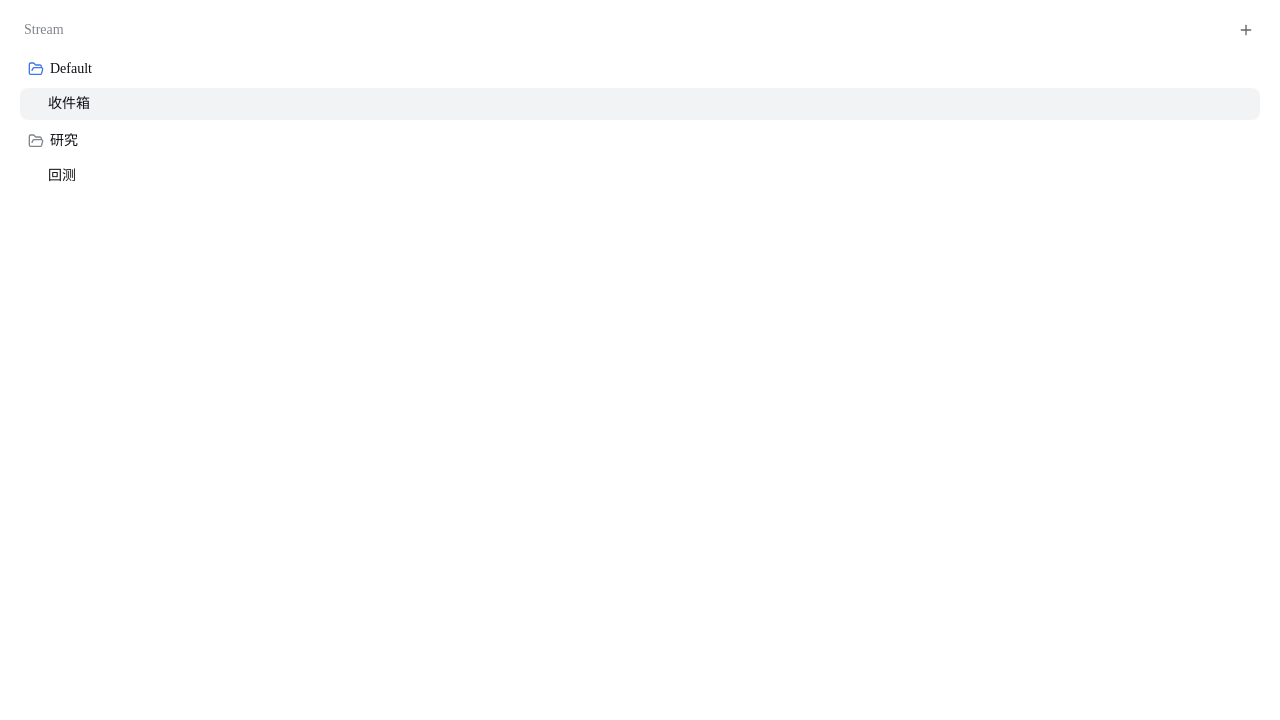
Test: 导航的写动作 › 写失败说出人话，不静默——"点了没反应"和坏了长得一模一样
Click the button named "新建": (1246, 30) [1232,16,1260,44]
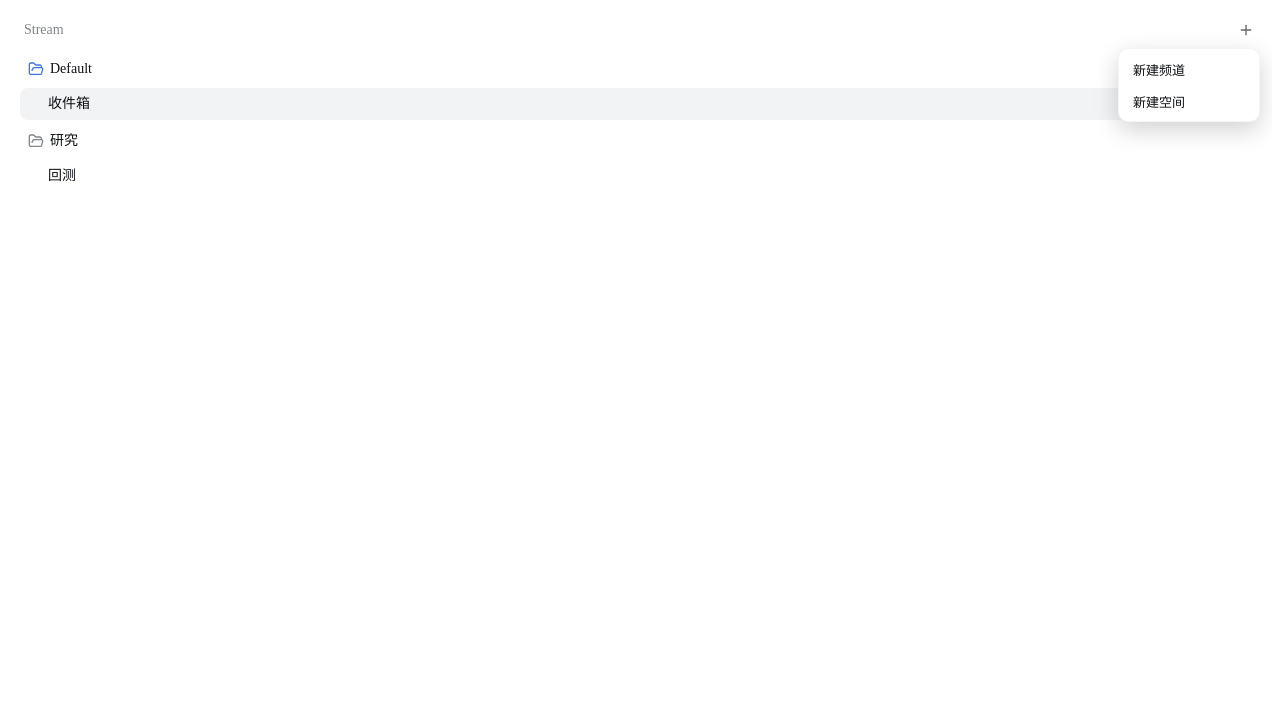
Click the menu item "新建空间": (1189, 101) [1123,85,1255,117]
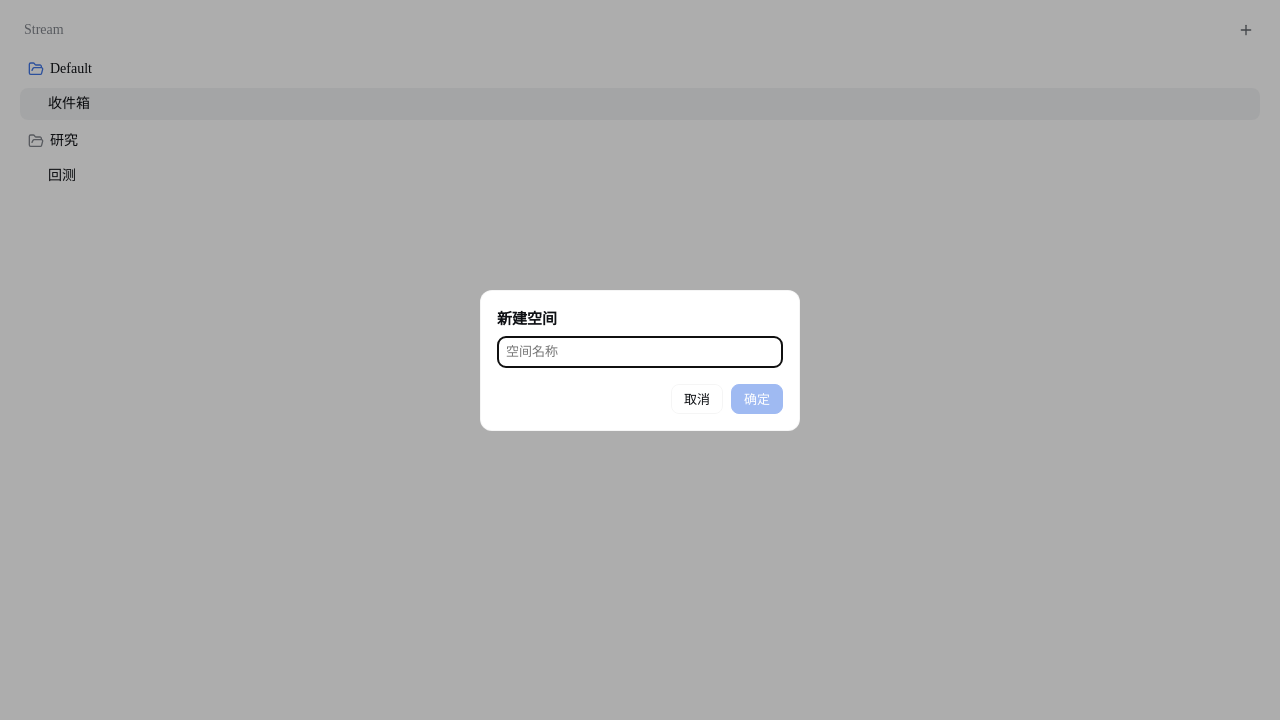
In the field labelled "名称": (640, 352) [497,336,783,368], type "研究"
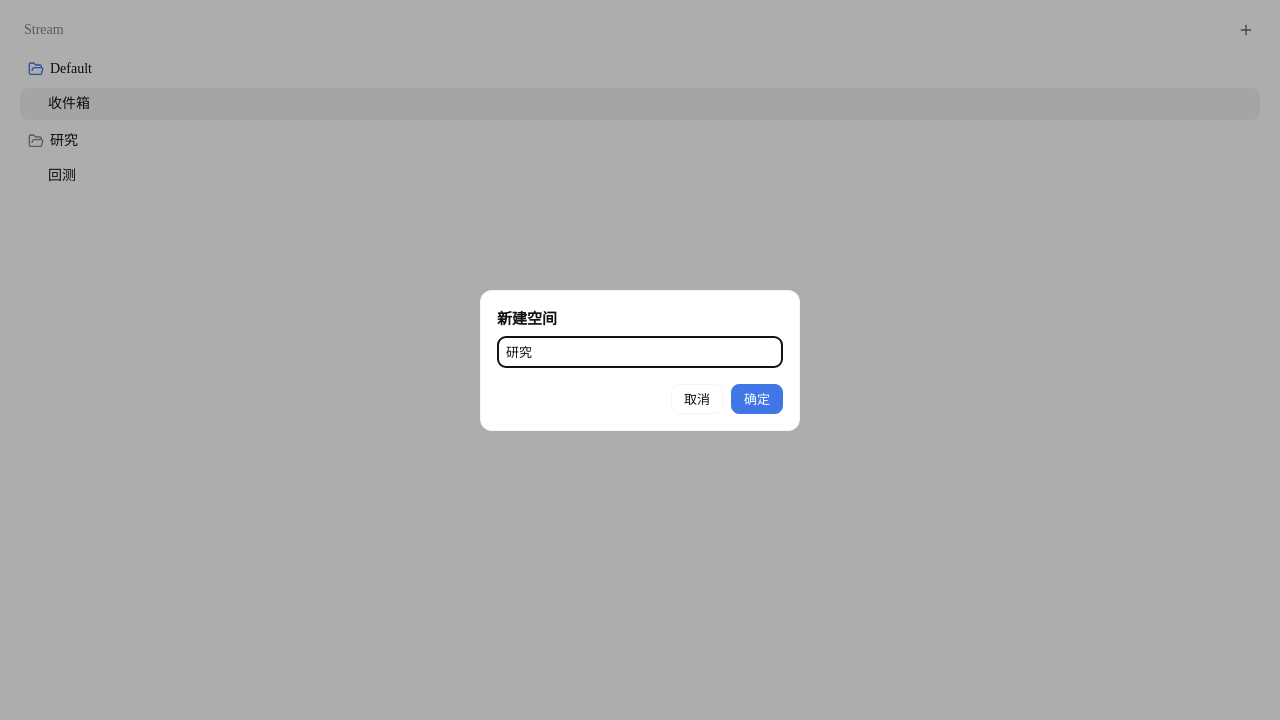
Click the button "确定": (757, 398) [731,384,783,414]
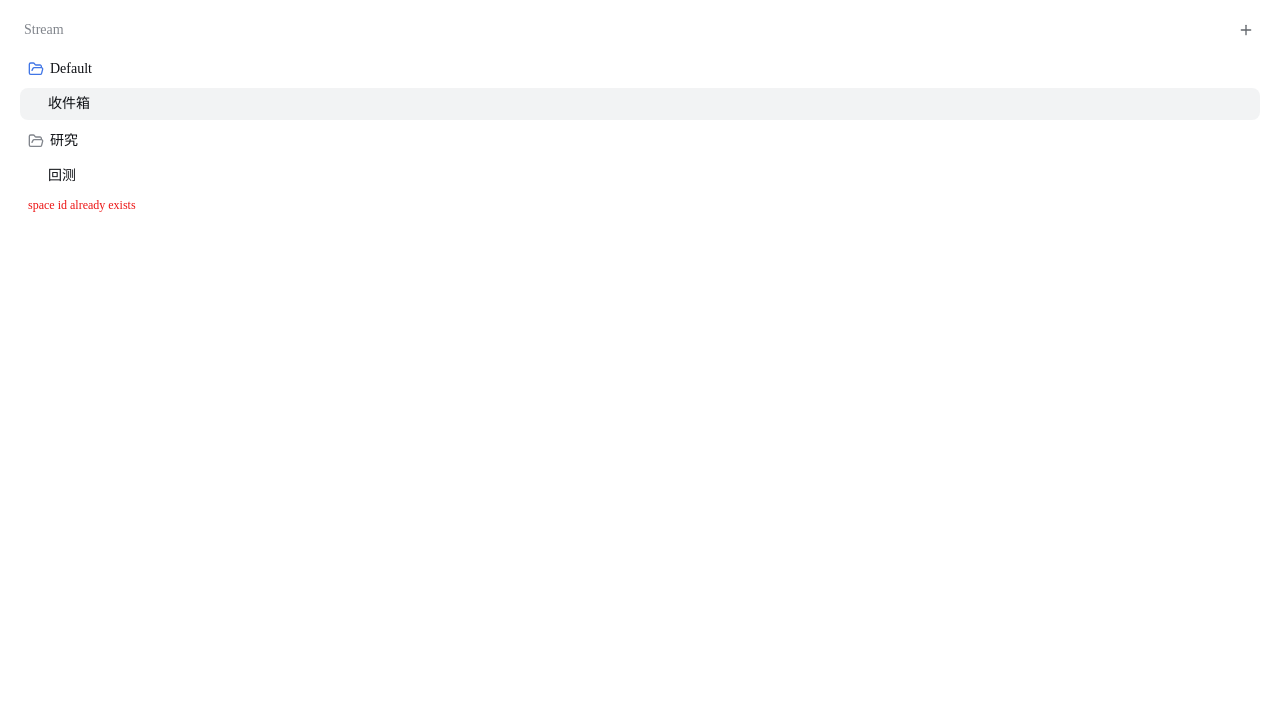
Result: the message reads "space id already exists" at [28,198,136,212]
